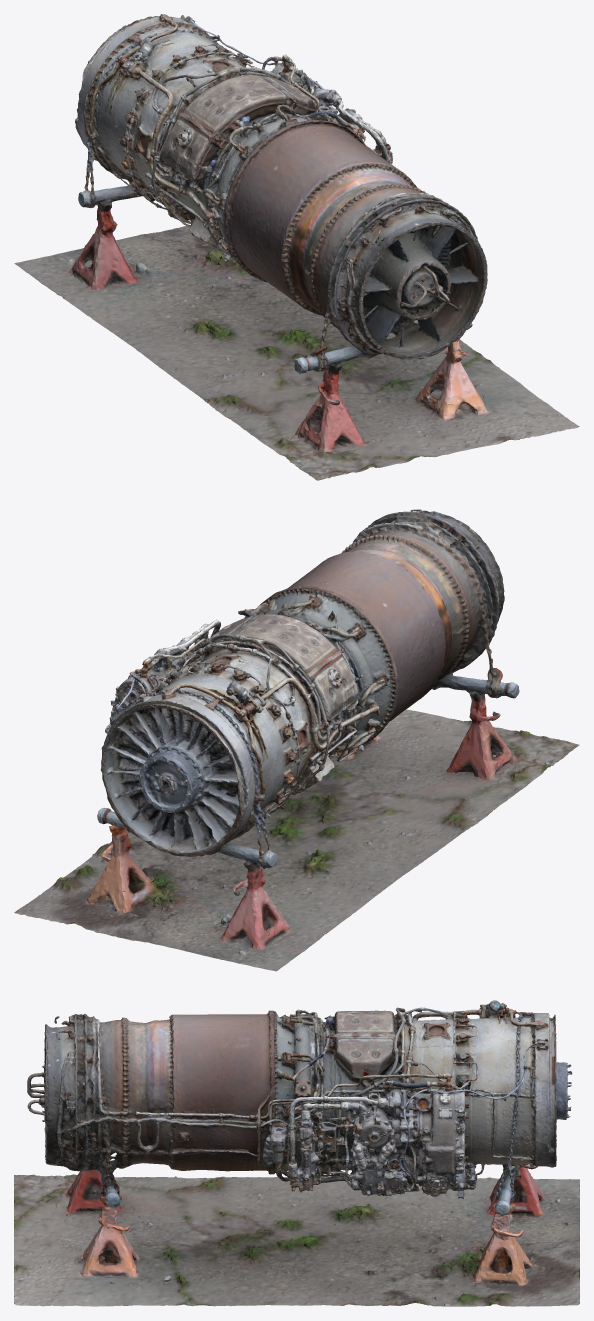
File: sexy-jet-engine-v1.glb
3 renders of one model, top to bottom at view 1: azimuth 30°, elevation 25°; view 2: azimuth 150°, elevation 25°; view 3: azimuth 270°, elevation 25°, orthographic. The views are drawn at different scales.
Size of the model in its own units: 1.2 by 1.06 by 2.39.
1 material, 1 textured.
